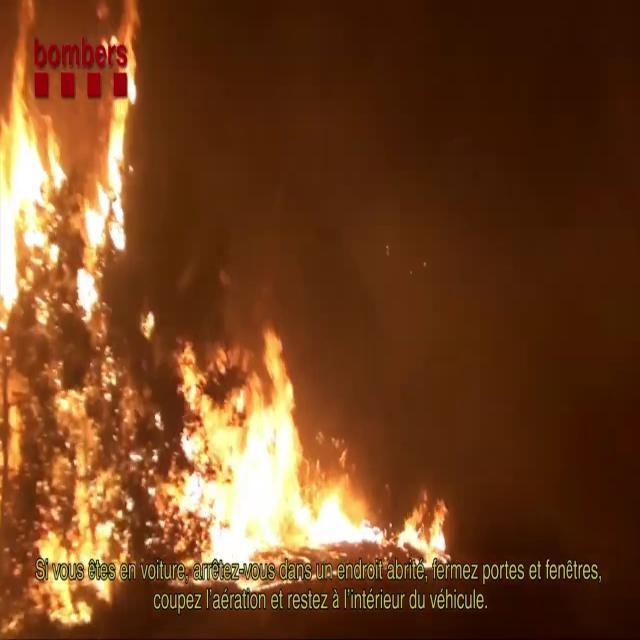Fire: (158, 322, 452, 570), (0, 48, 140, 351)
Smoke: (142, 1, 636, 423)
